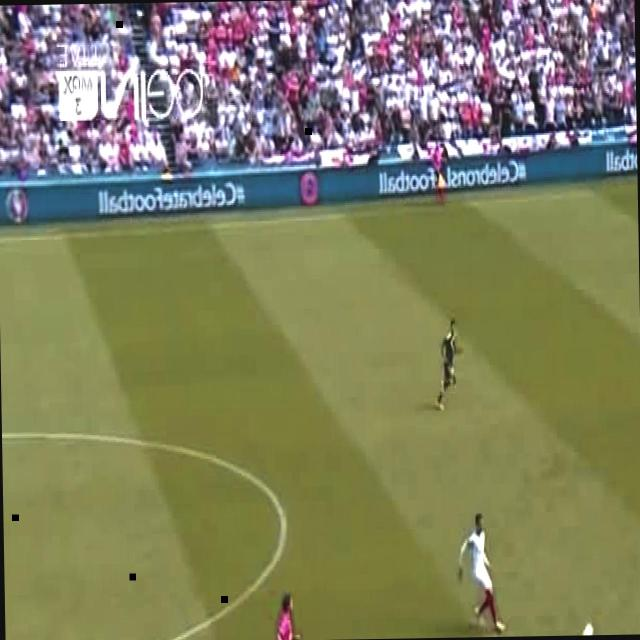ball: (584, 620, 594, 636)
player-white: (456, 511, 506, 635), (433, 319, 462, 411), (252, 592, 307, 640), (433, 140, 447, 206)
